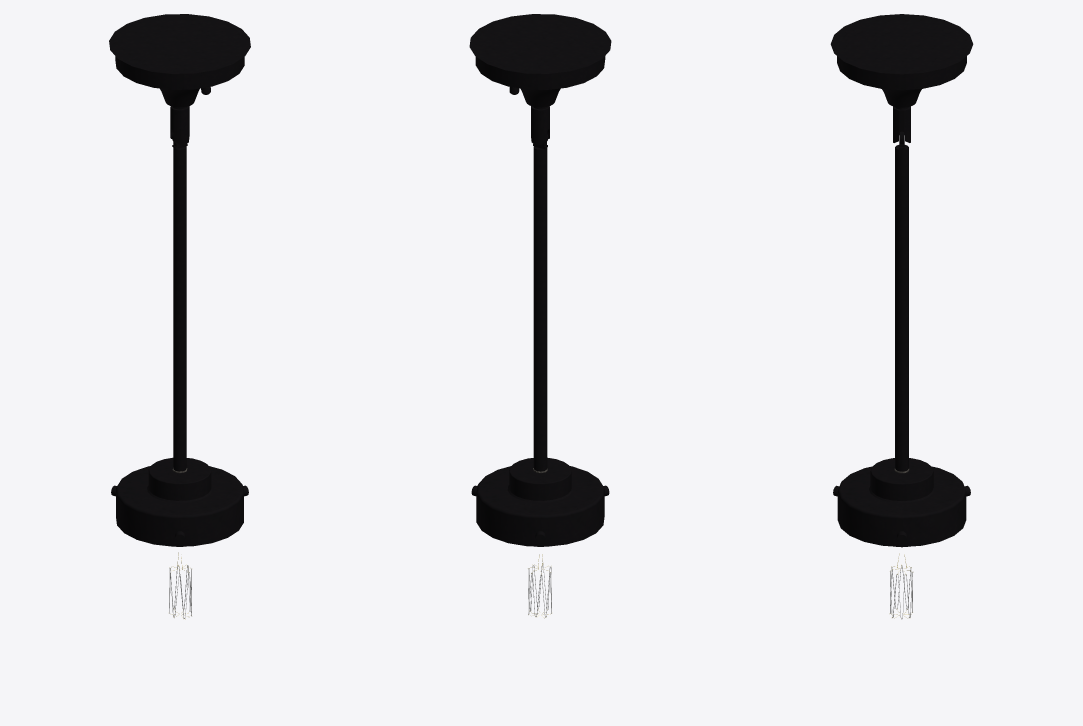
The model's file is lamp_B07B4SC2JX.glb.
3 renders of one model, left to right at view 1: azimuth 30°, elevation 25°; view 2: azimuth 150°, elevation 25°; view 3: azimuth 270°, elevation 25°, orthographic.
Parts seen in each view (by area): view 1: "$Mesh_B07B4SC2JXShape"; view 2: "$Mesh_B07B4SC2JXShape"; view 3: "$Mesh_B07B4SC2JXShape".
Part boxes in pixels (x1=…): "$Mesh_B07B4SC2JXShape": x1=109, y1=14, x2=250, y2=619; "$Mesh_B07B4SC2JXShape": x1=469, y1=14, x2=611, y2=618; "$Mesh_B07B4SC2JXShape": x1=830, y1=14, x2=973, y2=619.
Bounding box in the file's own units: 0.2793 × 0.6128 × 0.281.
1 material, 1 textured.
